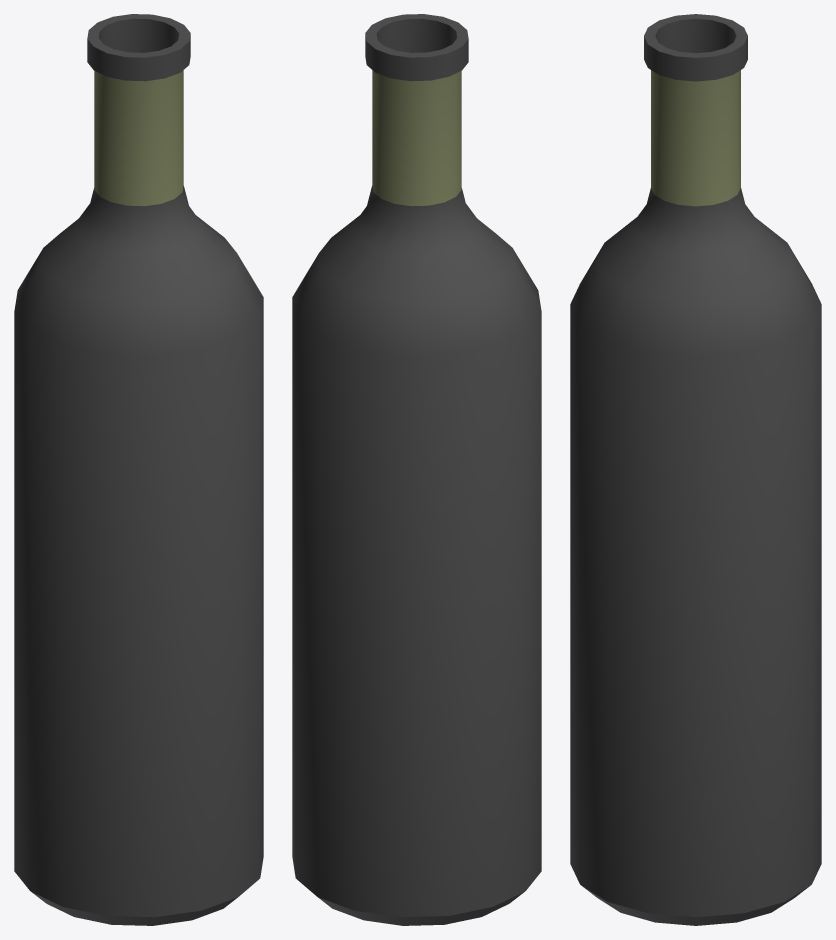
File: Garrafa.fbx
The picture shows the model from 3 angles, left to right: view 1: azimuth 30°, elevation 25°; view 2: azimuth 150°, elevation 25°; view 3: azimuth 270°, elevation 25°; orthographic projection.
Parts seen in each view (by area): view 1: Garrafa; view 2: Garrafa; view 3: Garrafa.
Part boxes in pixels (bbox=[...]): Garrafa: bbox=[14, 14, 263, 925]; Garrafa: bbox=[292, 14, 541, 925]; Garrafa: bbox=[570, 14, 821, 925].
Bounding box in the file's own units: 174 × 647 × 174.
